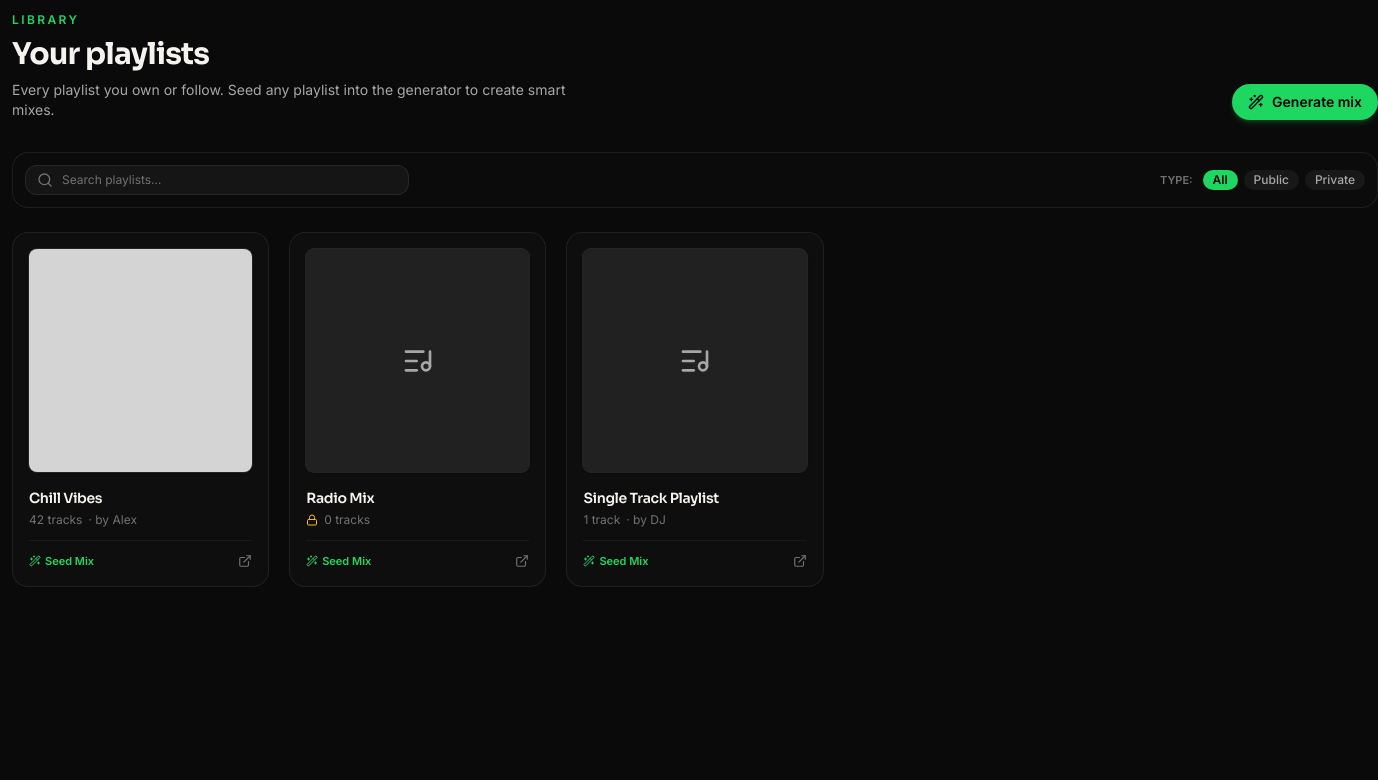
Test: Extra Components and Edge Cases › renders PlaylistsPage correctly even with playlists missing tracks or owner data
Expected: the heading "Chill Vibes" is shown, [29,489,102,507]
Expected: the text "42 tracks" is shown, [29,512,82,528]
# Test Search filter
Type "Chill" into the field with placeholder "Search playlists…".
click(217, 180); type("Chill")  # box [25,165,409,195]
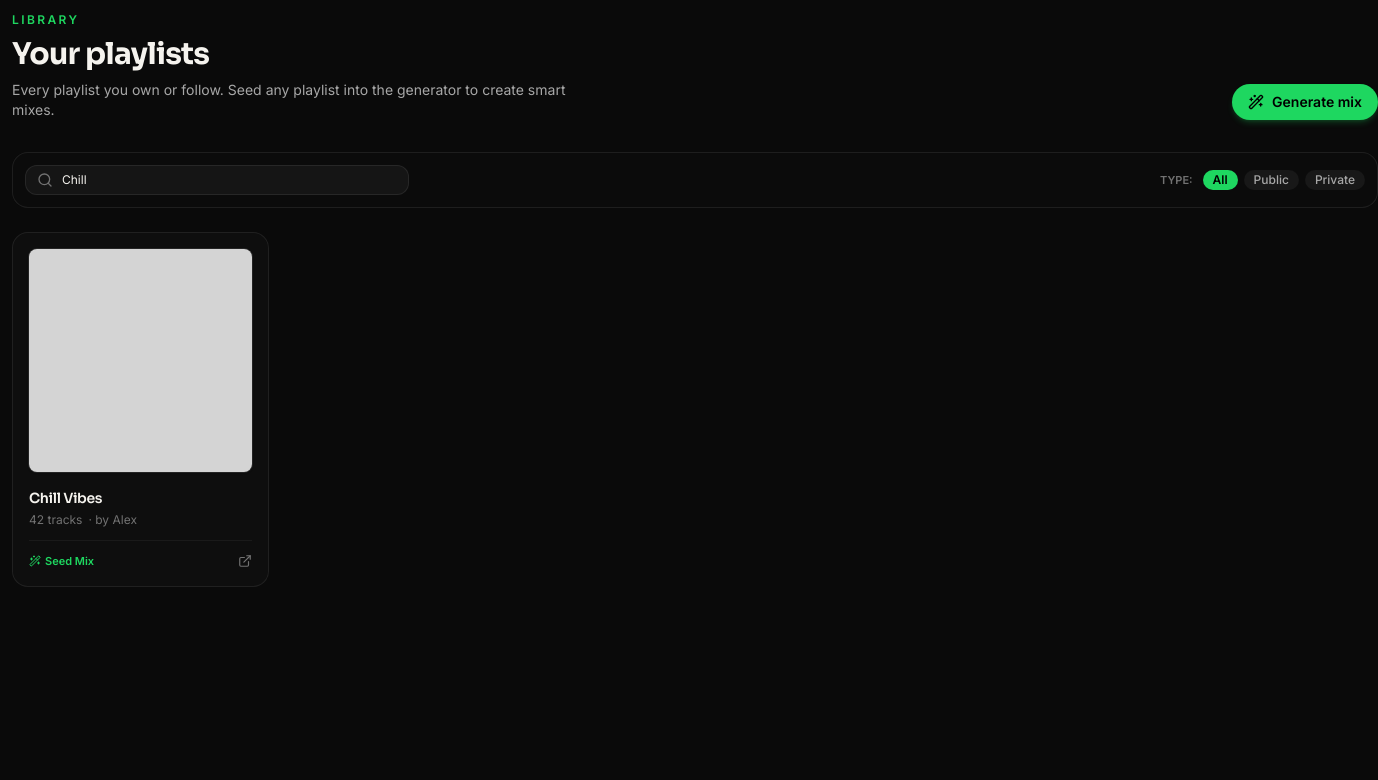
Expected: the heading "Chill Vibes" is shown, [29,489,102,507]
Expected: the link "Radio Mix" is gone
# Test Privacy filter
Clear the field with placeholder "Search playlists…" at (217, 180), box [25,165,409,195]
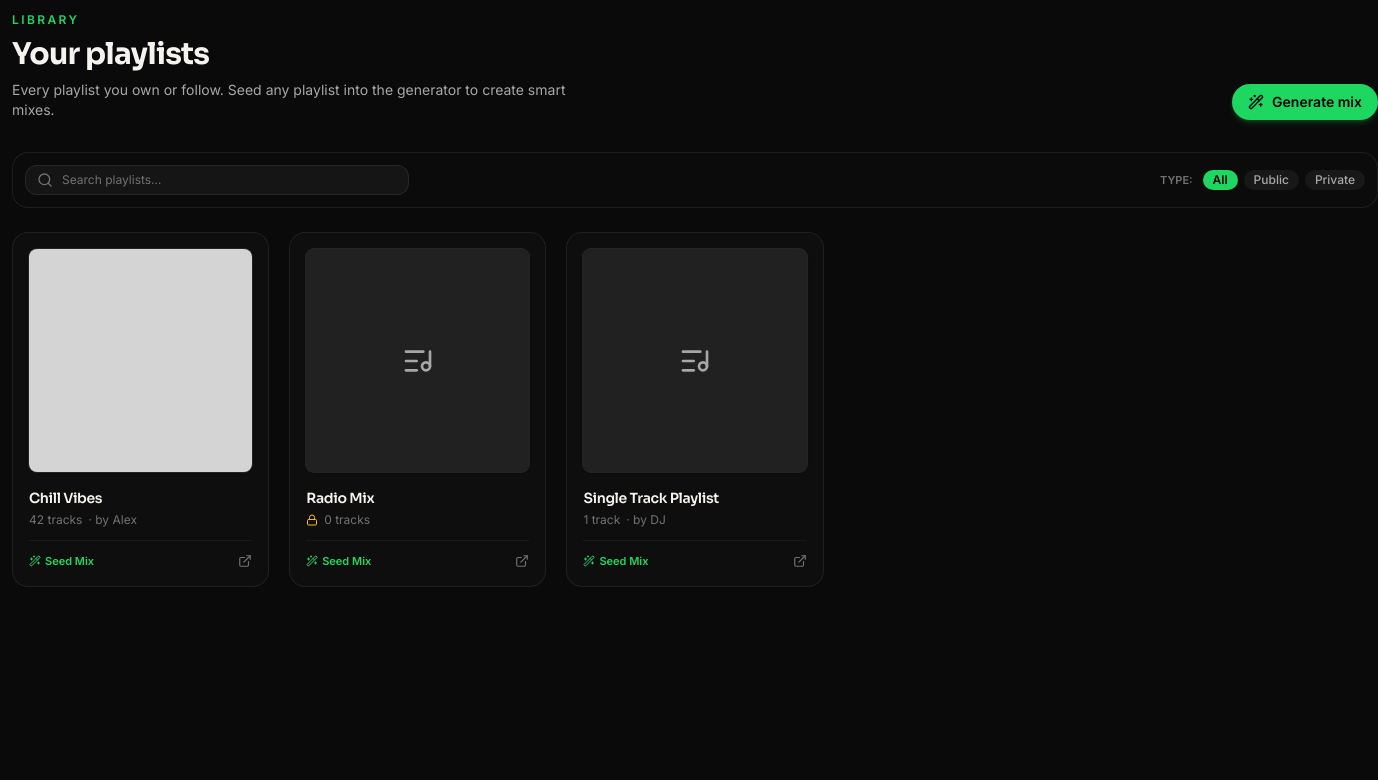
Click the button "private".
click(1335, 180)  # box [1305,170,1365,190]
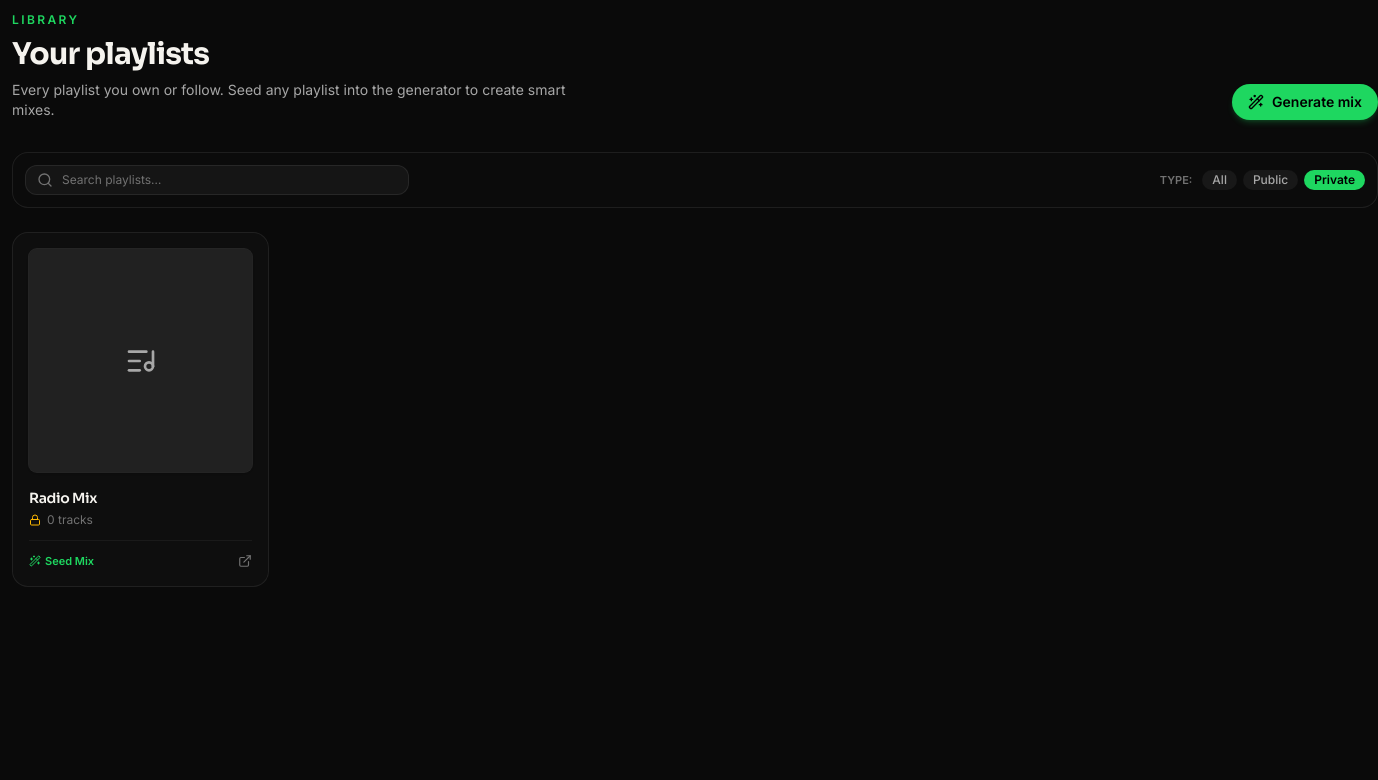
Expected: the heading "Radio Mix" is shown, [29,489,97,507]
Expected: the link "Chill Vibes" is gone
